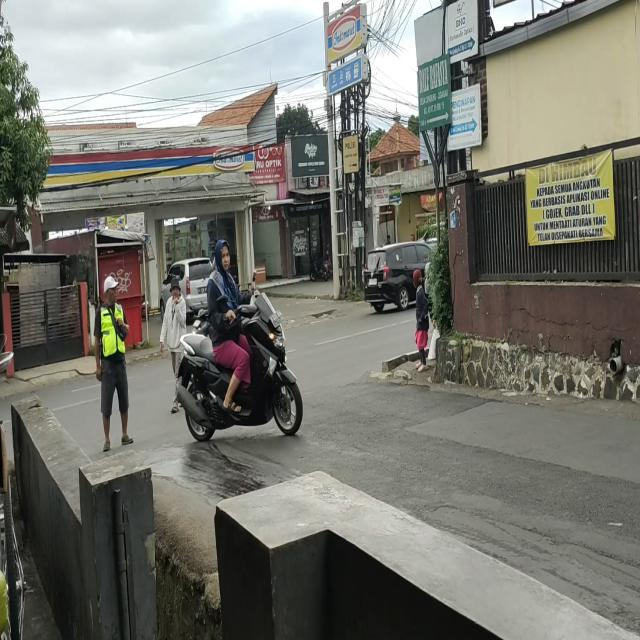no-helmet: (216, 240, 230, 273)
